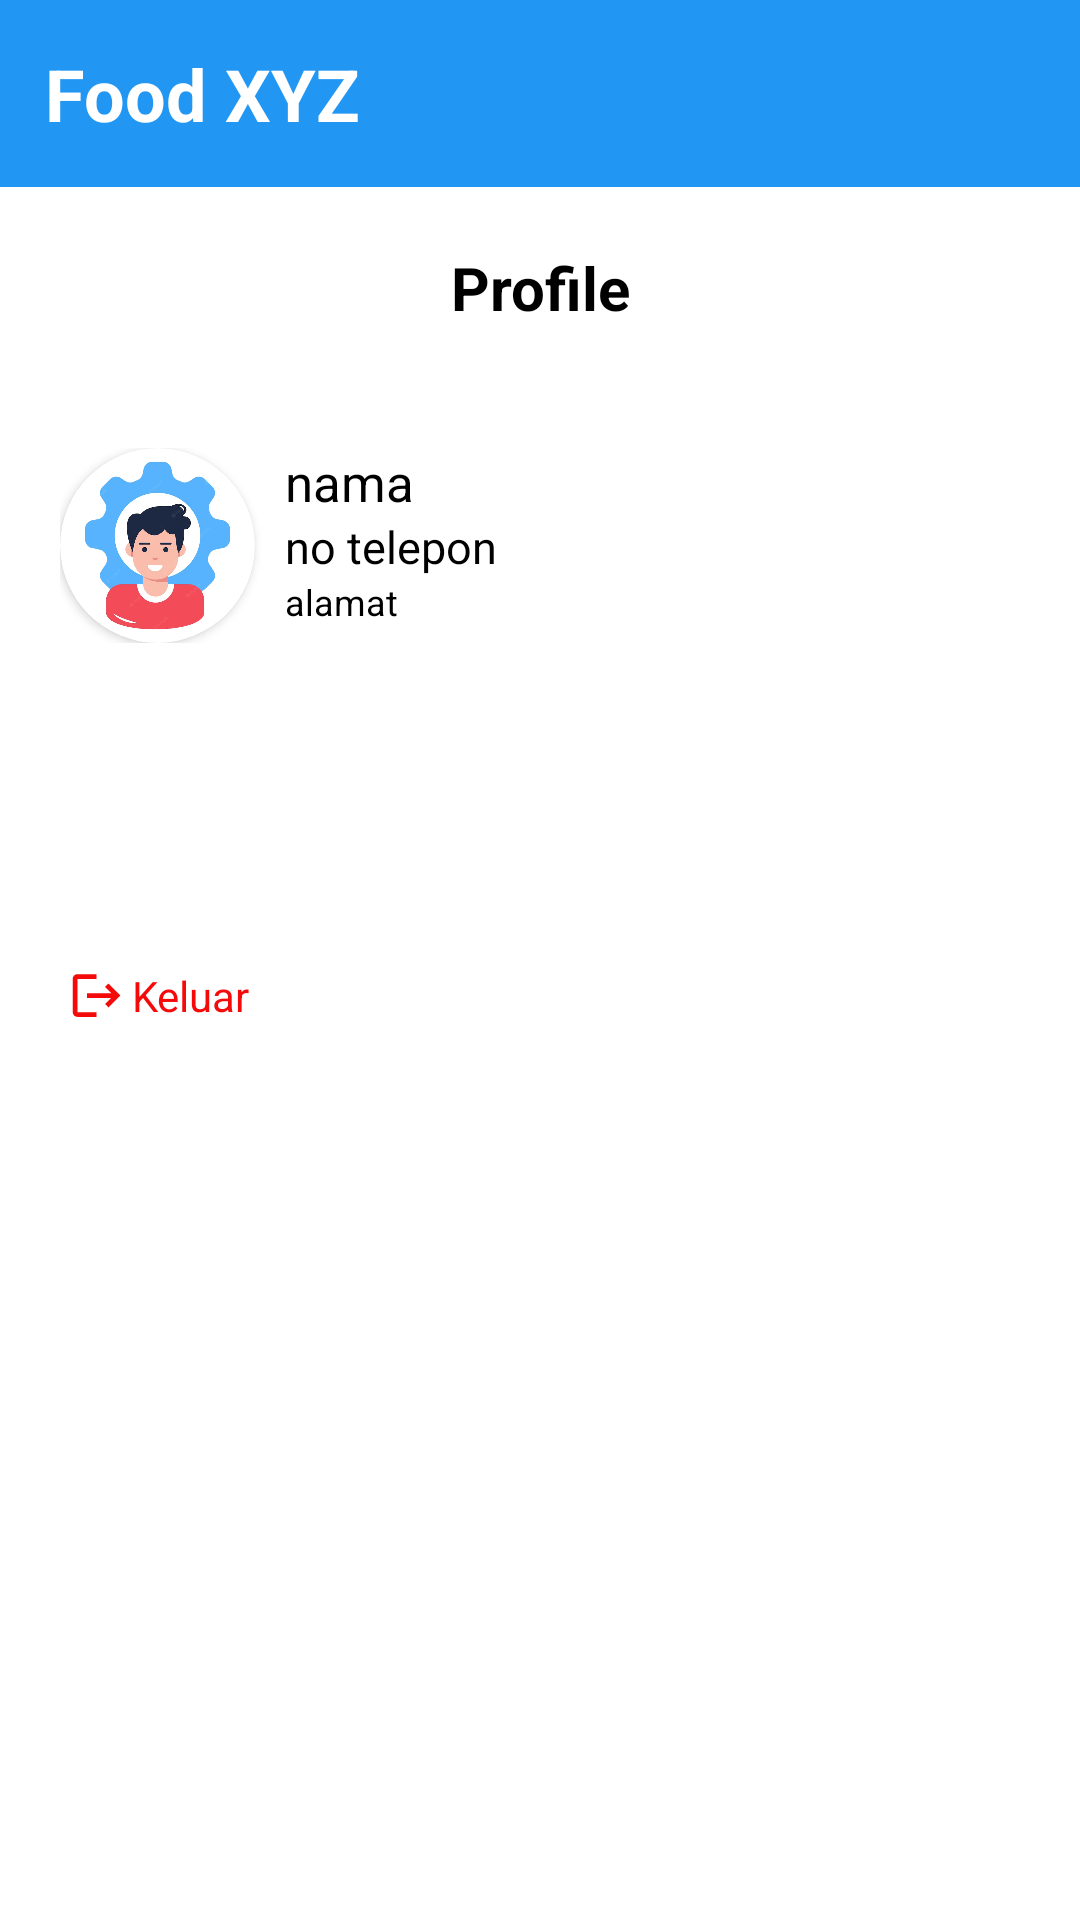

Icons on this 1080 x 1920 Android screen, each with the point to tap as point (x, y):
administrator: point (145, 552)
